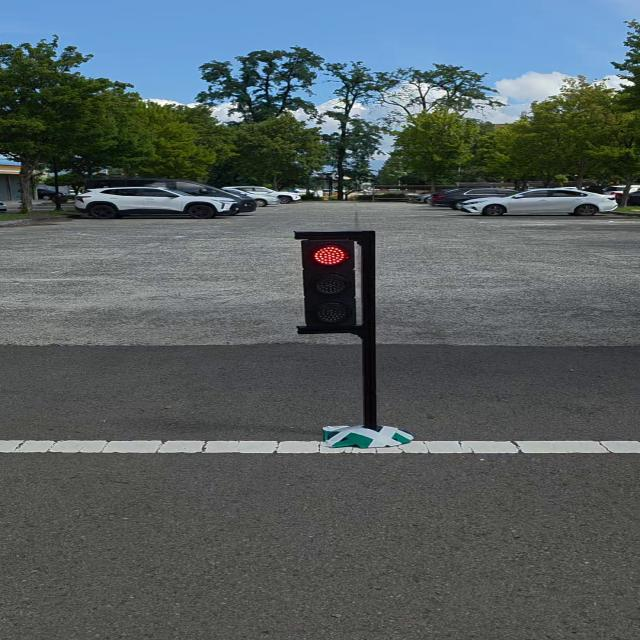red: (284, 228, 385, 339)
